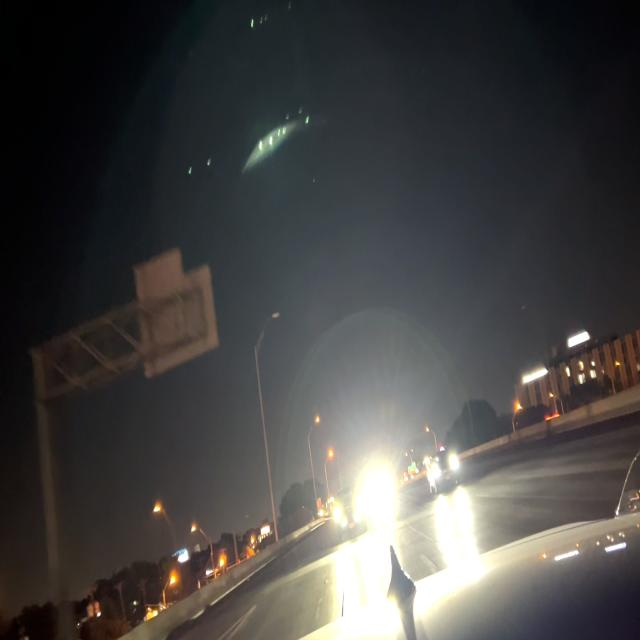back-of-sign: (136, 252, 219, 377)
